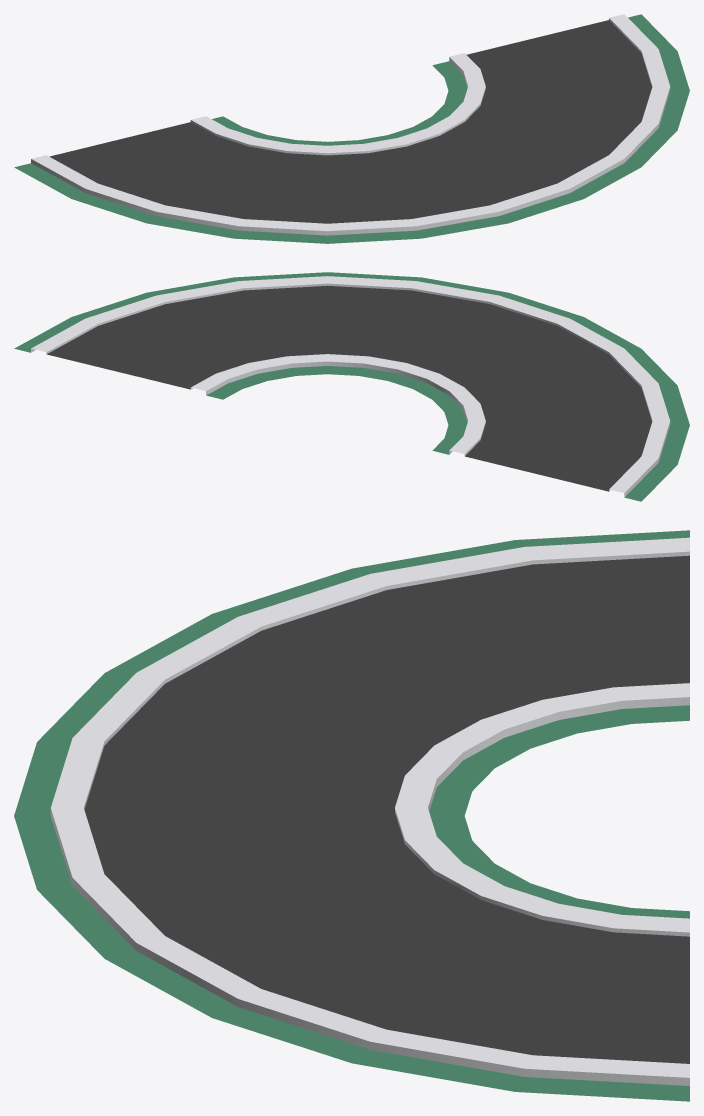
Rendered from roadHalfCircle.fbx.
The picture shows the model from 3 angles, top to bottom: view 1: azimuth 30°, elevation 25°; view 2: azimuth 150°, elevation 25°; view 3: azimuth 270°, elevation 25°; orthographic projection. The views are drawn at different scales.
Parts seen in each view (by area): view 1: roadHalfCircle; view 2: roadHalfCircle; view 3: roadHalfCircle.
Boxes of the visible parts, x1=… form: roadHalfCircle: x1=14, y1=14, x2=689, y2=243; roadHalfCircle: x1=14, y1=272, x2=689, y2=501; roadHalfCircle: x1=14, y1=530, x2=689, y2=1101.
Bounding box in the file's own units: 30 × 0.2 × 15.
